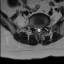CCS_stenosis: (37, 25, 40, 34)
LFS_severe_stenosis: (42, 24, 45, 29)
LLS_normal: (40, 25, 42, 32)
RFS_stenosis: (32, 23, 35, 30)
RLS_normal: (35, 25, 37, 32)
